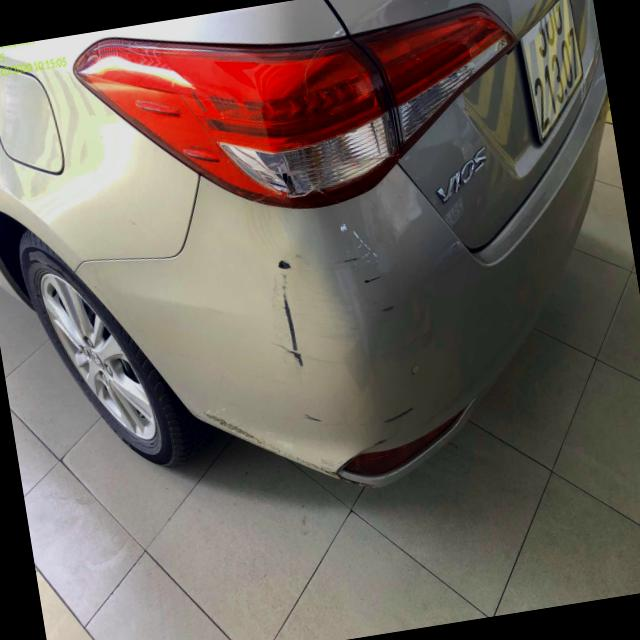Phare abime: (268, 151, 326, 206)
Rayure: (272, 250, 312, 373), (380, 401, 425, 427), (333, 251, 375, 267), (300, 410, 342, 426), (360, 273, 385, 285)
